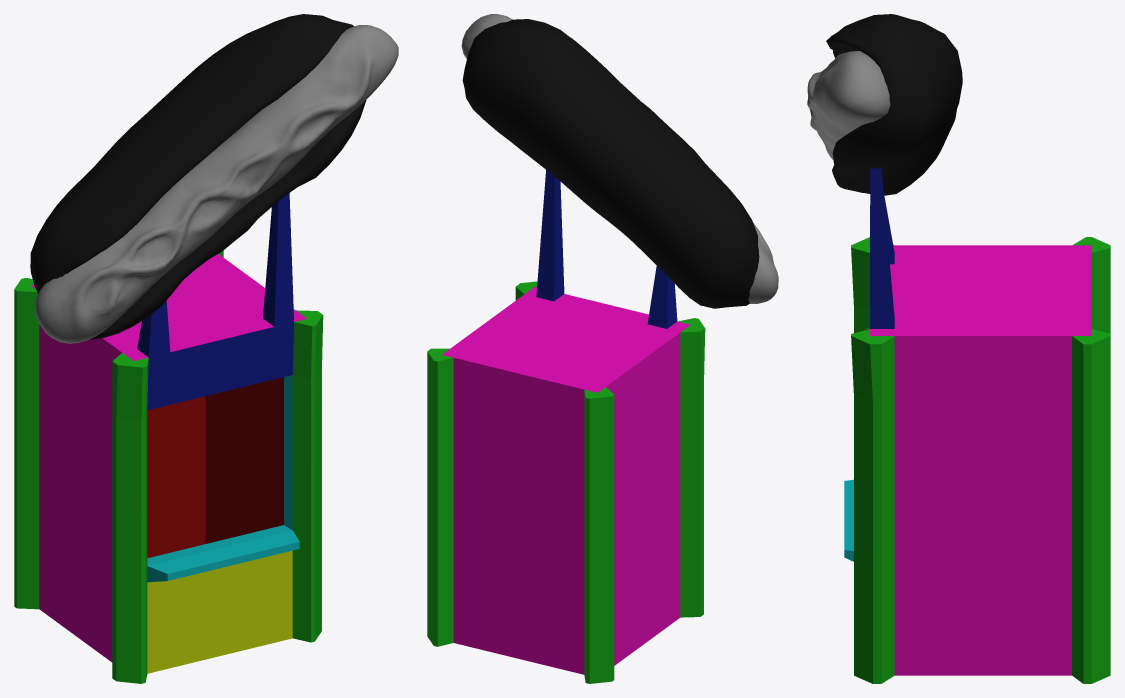
The model's file is HotdogLow_fix.fbx.
The picture shows the model from 3 angles, left to right: view 1: azimuth 30°, elevation 25°; view 2: azimuth 150°, elevation 25°; view 3: azimuth 270°, elevation 25°; orthographic projection. The views are drawn at different scales.
Parts seen in each view (by area): view 1: HotBooth_low, Bun_low, Dog_Low; view 2: HotBooth_low, Bun_low, Dog_Low; view 3: HotBooth_low, Bun_low, Dog_Low.
Boxes of the visible parts, <box> form: HotBooth_low: <box>14,193,323,683</box>; Bun_low: <box>30,14,366,339</box>; Dog_Low: <box>35,25,398,343</box>; HotBooth_low: <box>427,170,705,683</box>; Bun_low: <box>462,19,759,308</box>; Dog_Low: <box>461,14,778,303</box>; HotBooth_low: <box>844,168,1110,683</box>; Bun_low: <box>826,14,962,195</box>; Dog_Low: <box>807,51,890,160</box>.
Bounding box in the file's own units: 158 × 265 × 111.
